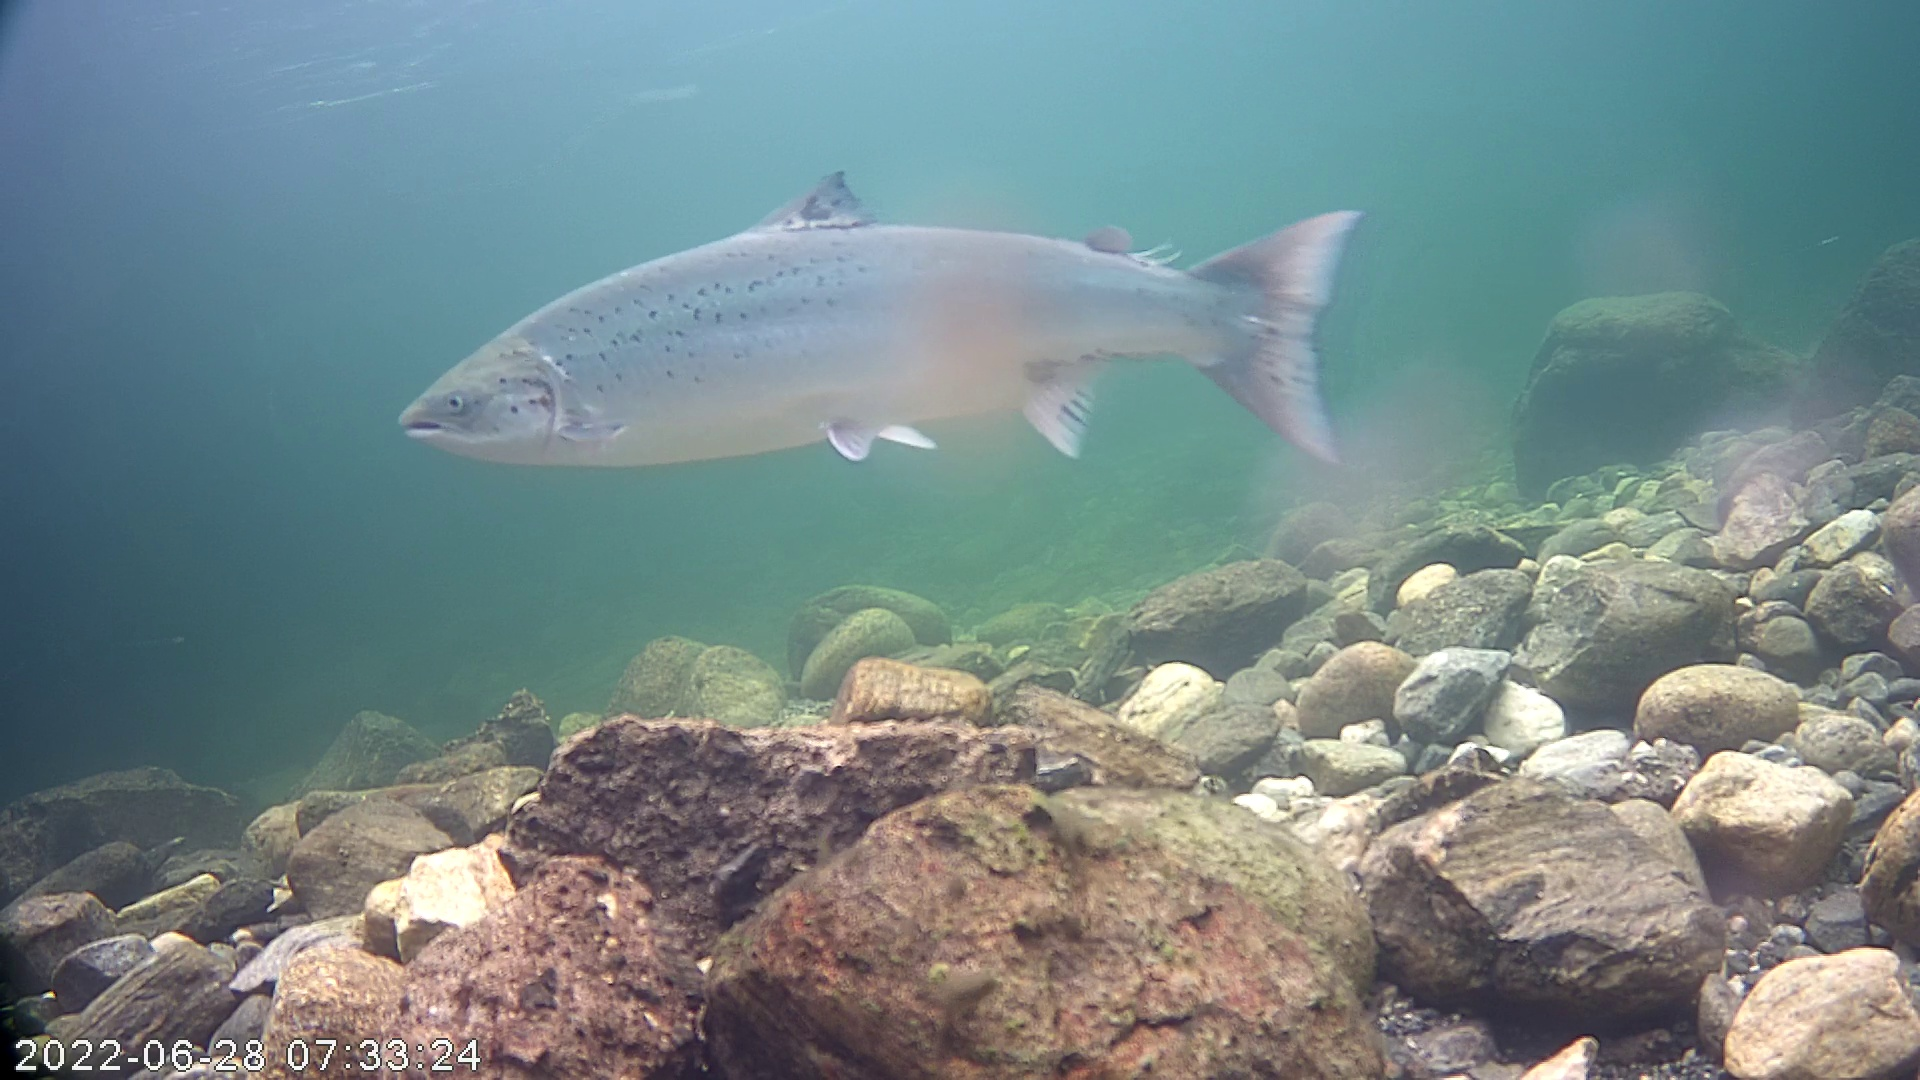salmon: (392, 109, 1385, 527)
